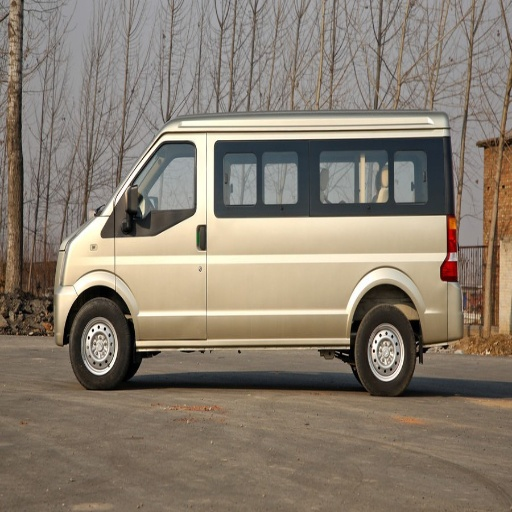back_left_door: (254, 178, 332, 335)
trunk: (329, 219, 454, 341)
